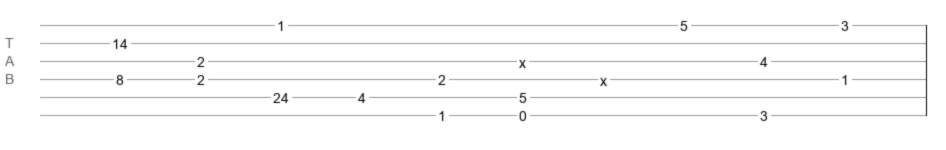0: (519, 108, 527, 118)
1: (277, 18, 285, 28), (438, 108, 446, 118), (841, 72, 849, 82)
14: (112, 36, 128, 46)
2: (197, 72, 205, 82), (197, 54, 205, 64), (438, 72, 446, 82)
24: (273, 90, 289, 100)
3: (760, 108, 768, 118), (841, 18, 849, 28)
4: (358, 90, 366, 100), (760, 54, 768, 64)
5: (519, 90, 527, 100), (680, 18, 688, 28)
8: (116, 72, 124, 82)
x: (519, 55, 526, 63), (600, 73, 607, 81)
